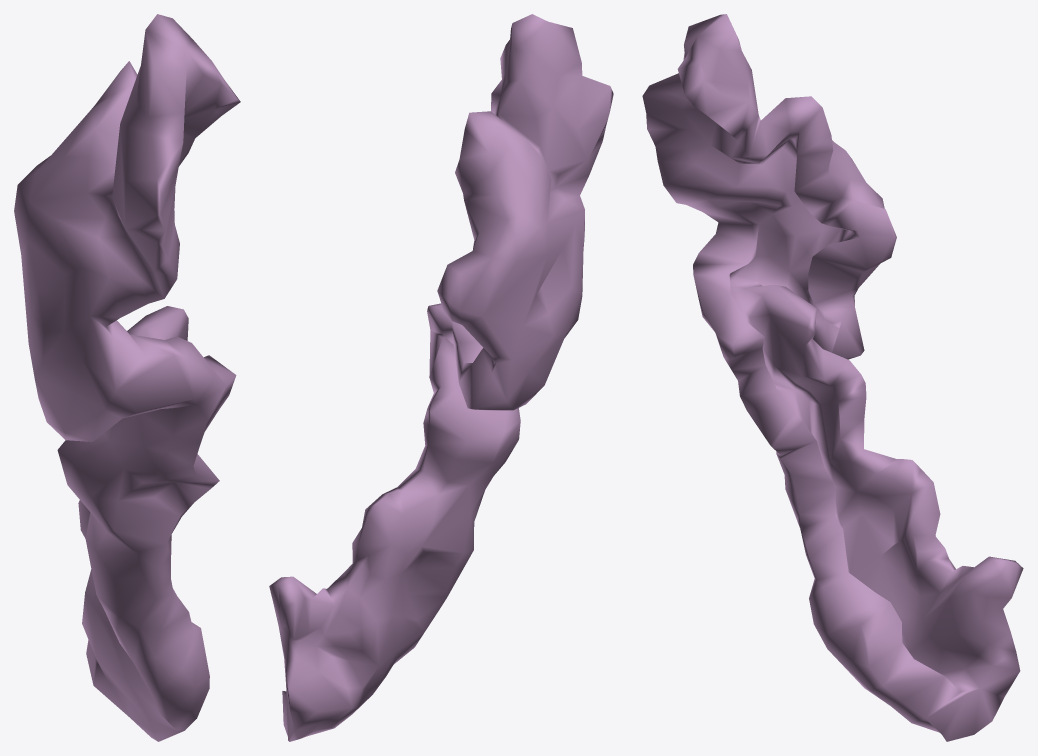
3 views of the same model, side by side, from view 1: azimuth 30°, elevation 25°; view 2: azimuth 150°, elevation 25°; view 3: azimuth 270°, elevation 25° (orthographic). The views are drawn at different scales.
Parts seen in each view (by area): view 1: 右侧颞上回外侧部; view 2: 右侧颞上回外侧部; view 3: 右侧颞上回外侧部.
Boxes of the visible parts, bbox=[...] form: 右侧颞上回外侧部: bbox=[14, 14, 240, 741]; 右侧颞上回外侧部: bbox=[269, 14, 613, 741]; 右侧颞上回外侧部: bbox=[642, 14, 1023, 741].
Bounding box in the file's own units: 0.0374 × 0.1213 × 0.0631.
